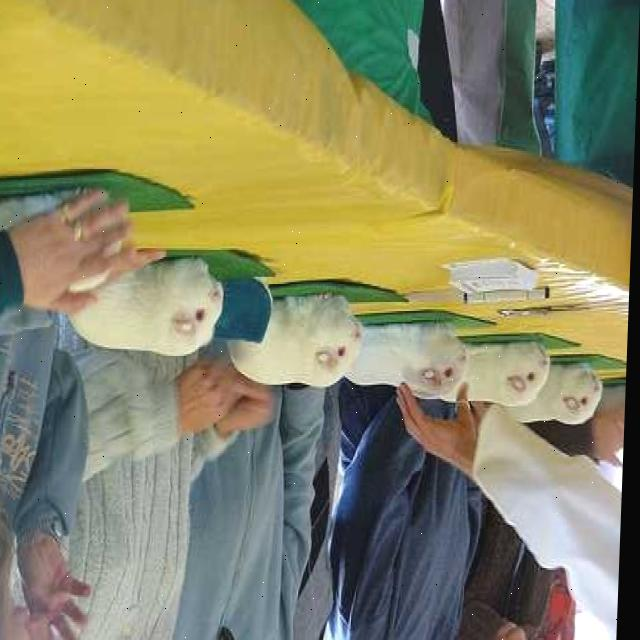guinea pig: (67, 253, 230, 356), (225, 287, 367, 387), (351, 329, 471, 392), (454, 346, 558, 407), (516, 366, 613, 429)
